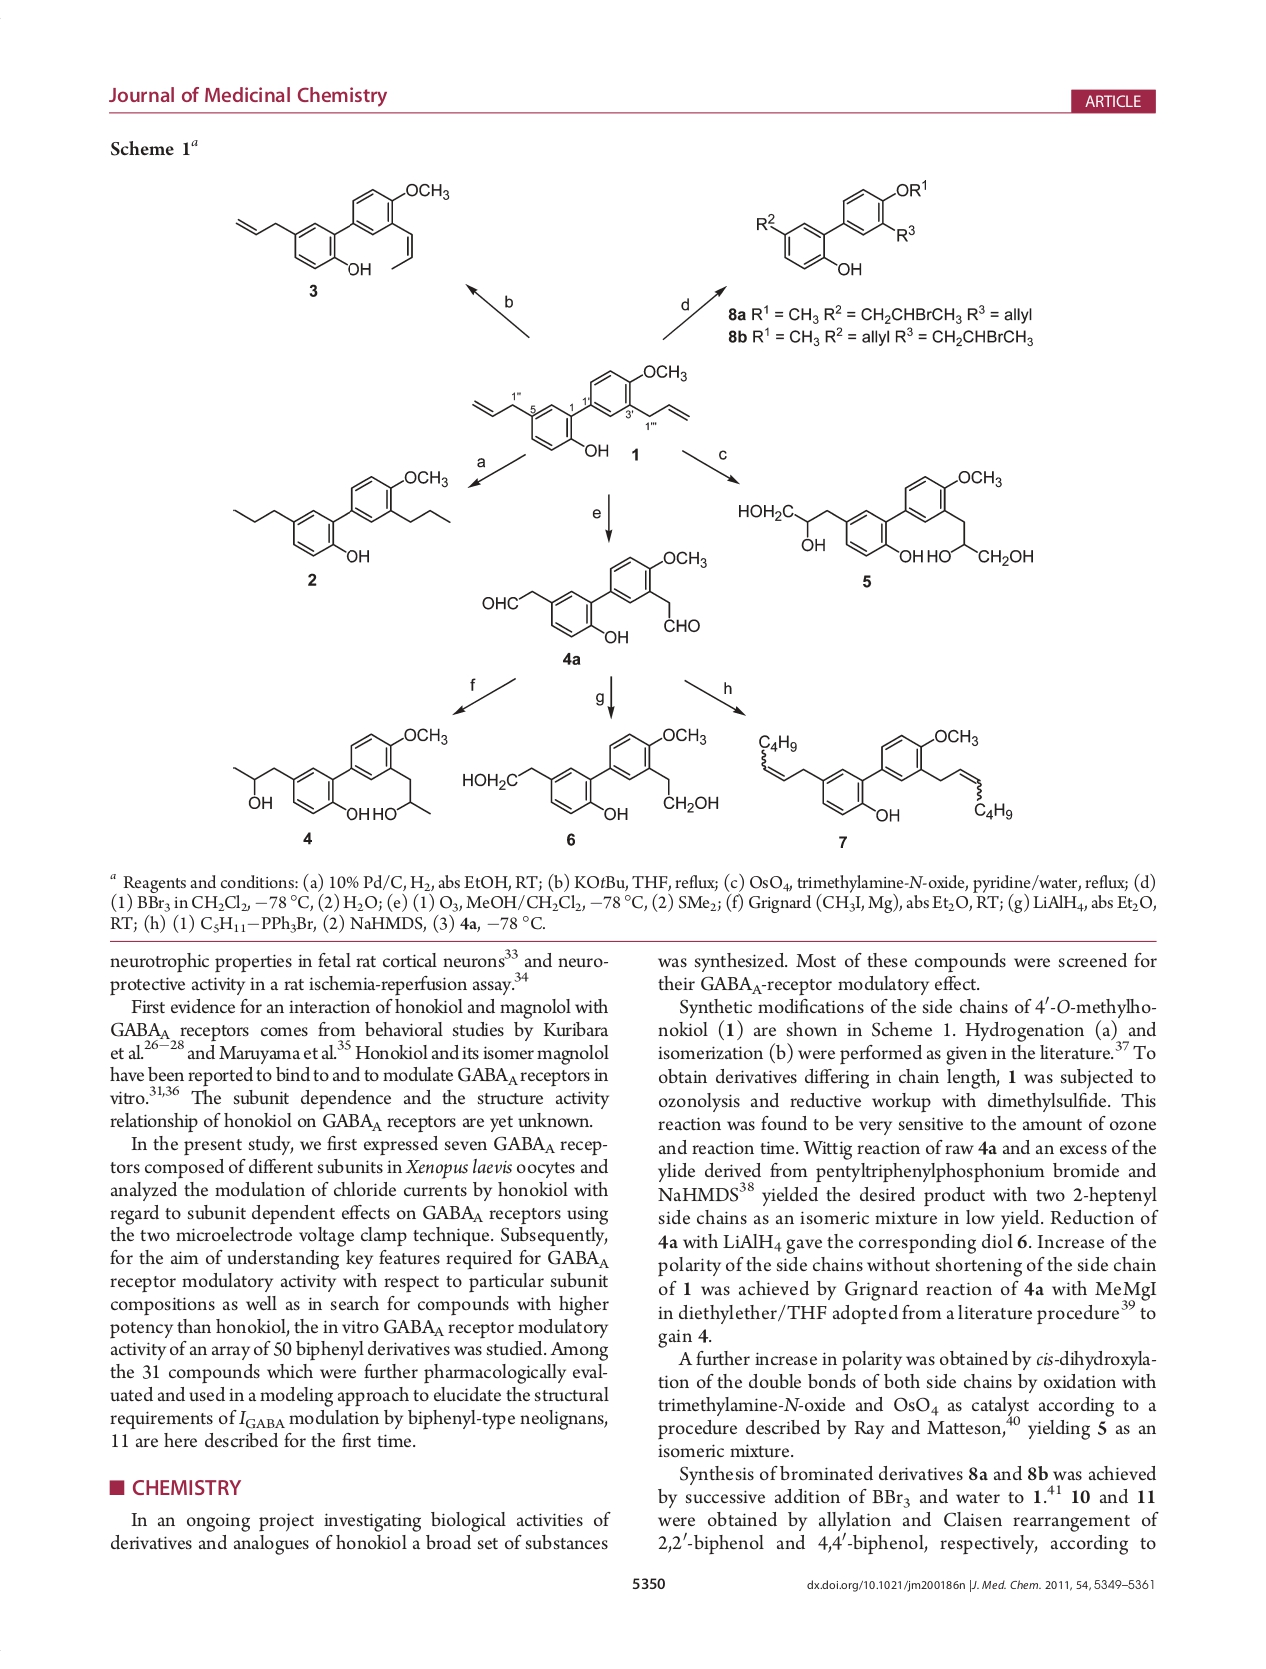exist_molecular: (735, 467, 1036, 569), (460, 726, 723, 825), (755, 725, 1015, 822), (481, 551, 710, 646), (233, 180, 452, 277), (230, 725, 449, 822), (469, 362, 692, 457), (231, 468, 453, 563), (751, 178, 930, 278)
